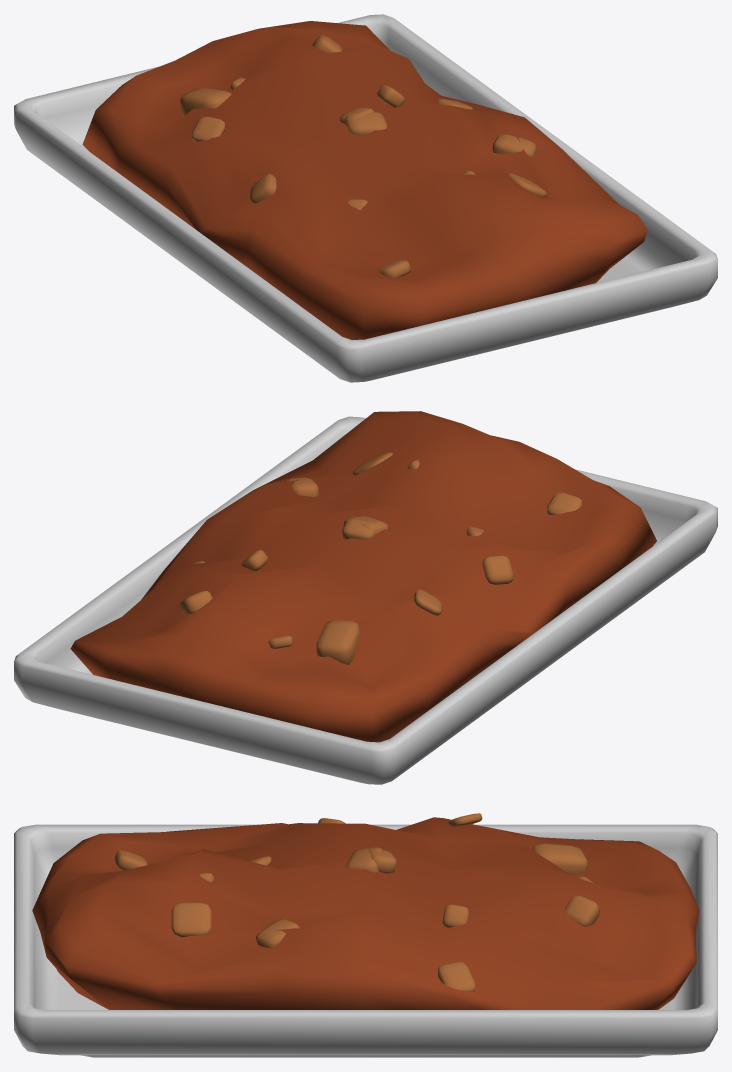
The model's file is Food1.fbx.
3 renders of one model, top to bottom at view 1: azimuth 30°, elevation 25°; view 2: azimuth 150°, elevation 25°; view 3: azimuth 270°, elevation 25°, orthographic. The views are drawn at different scales.
Visible parts, largest first — view 1: Cube.001, Cube, Cube.006, Cube.002; view 2: Cube.001, Cube, Cube.006, Cube.002; view 3: Cube.001, Cube, Cube.006, Cube.002.
Boxes of the visible parts, x1,y1,x2,y2 form: Cube.001: (82,21,647,339); Cube: (14,14,717,382); Cube.006: (180,35,547,277); Cube.002: (191,77,536,209); Cube.001: (70,411,656,742); Cube: (14,416,717,784); Cube.006: (180,452,582,664); Cube.002: (241,460,483,648); Cube.001: (32,817,699,1009); Cube: (14,824,717,1057); Cube.006: (114,818,599,991); Cube.002: (199,813,592,947).
Size of the model in its own units: 129 by 42.24 by 200.
